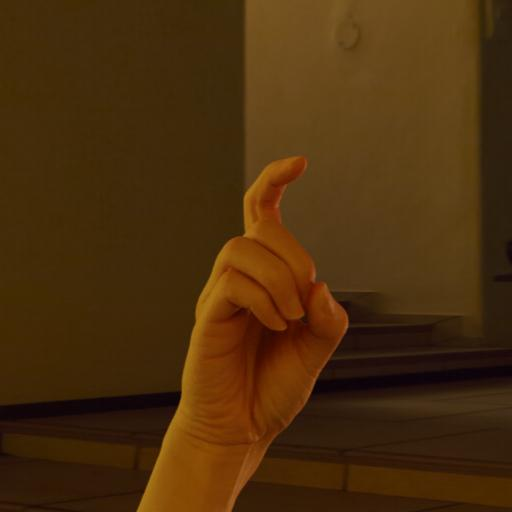X: (162, 148, 354, 482)
